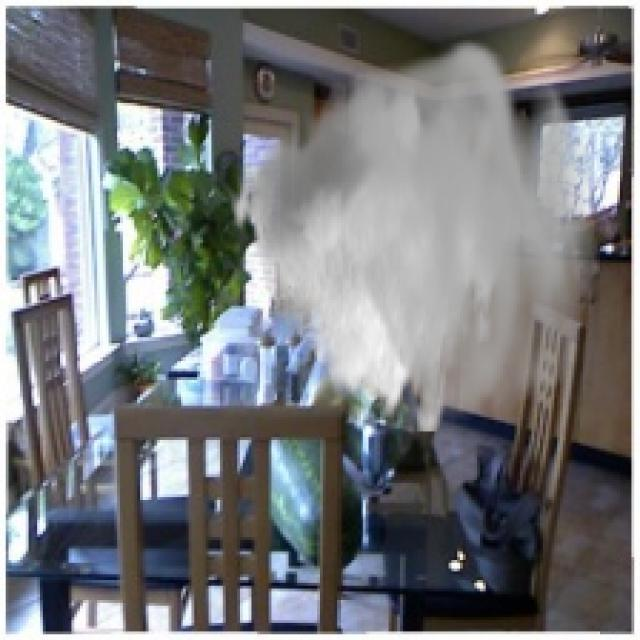Smoke: (228, 34, 600, 432)
